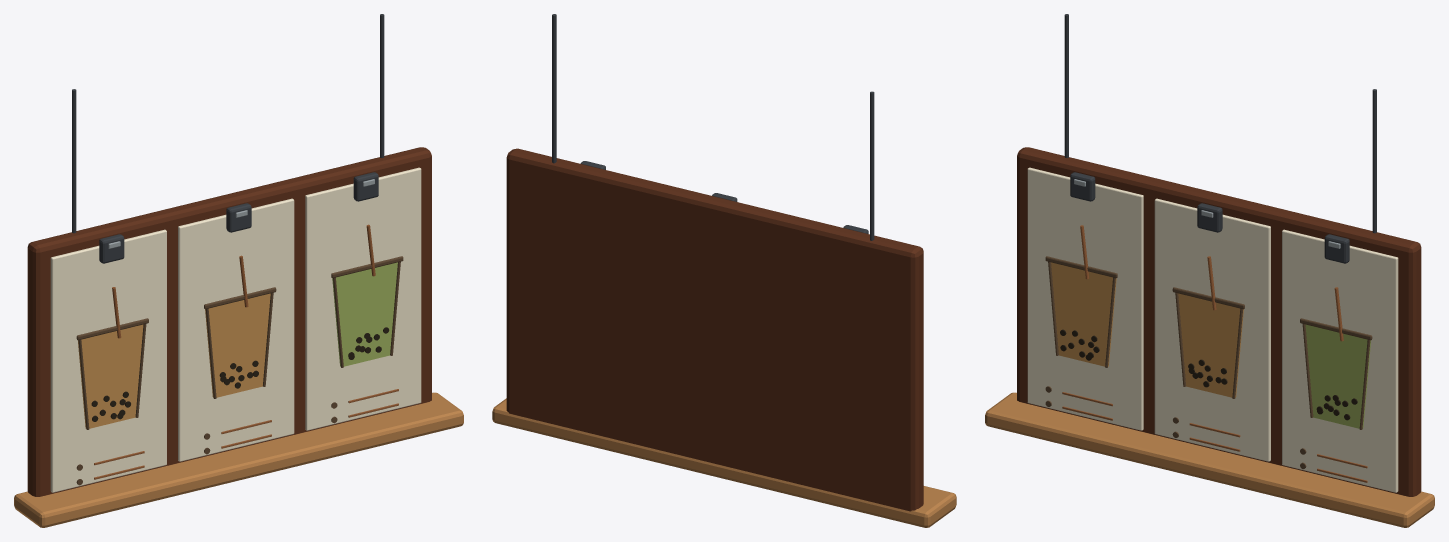
File: menu_triptych.fbx
3 renders of one model, left to right at view 1: azimuth 30°, elevation 25°; view 2: azimuth 150°, elevation 25°; view 3: azimuth 330°, elevation 25°, orthographic. The views are drawn at different scales.
Parts seen in each view (by area): view 1: menu_triptych; view 2: menu_triptych; view 3: menu_triptych.
Boxes of the visible parts, x1,y1,x2,y2 form: menu_triptych: (14, 14, 463, 527); menu_triptych: (492, 14, 956, 527); menu_triptych: (985, 14, 1434, 527).
Size of the model in its own units: 1.35 by 1.24 by 0.16.
